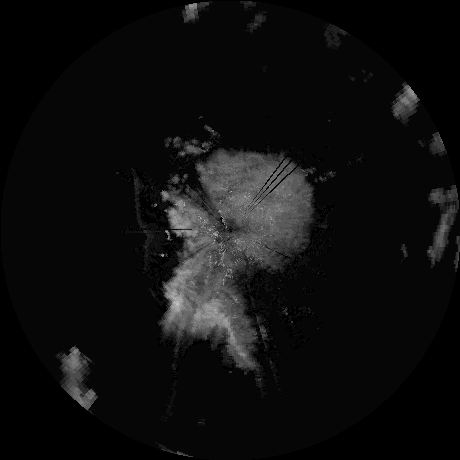frontgust: (132, 176, 154, 262)
